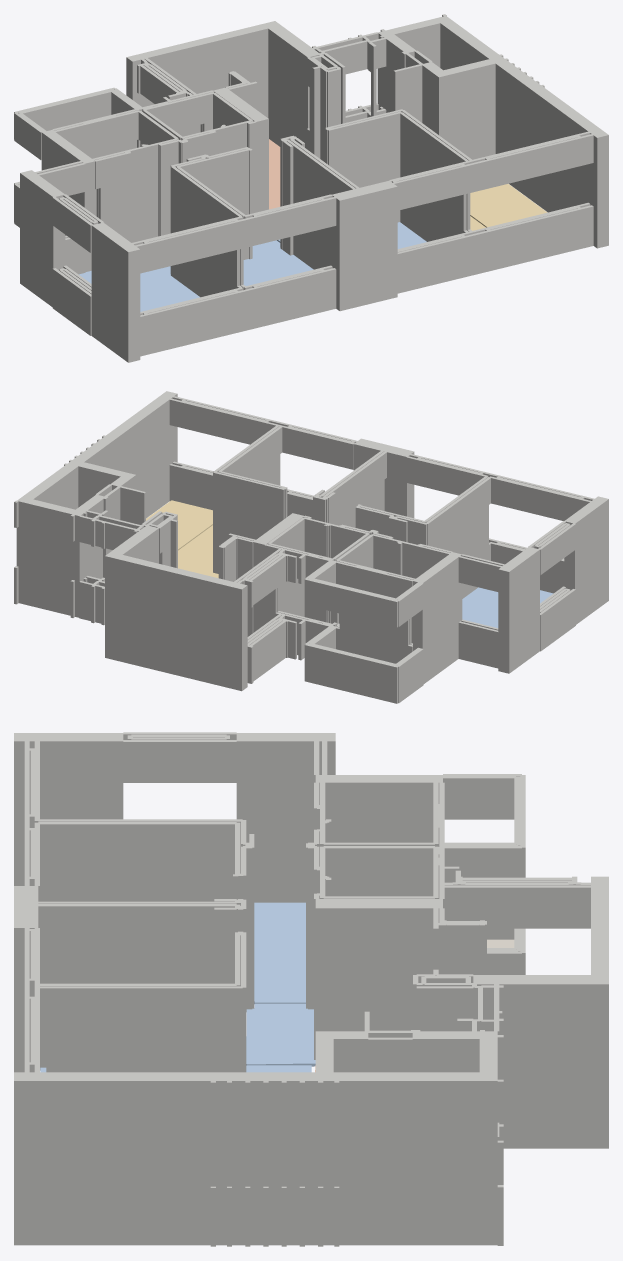
3 views of the same model, one above another, from view 1: azimuth 30°, elevation 25°; view 2: azimuth 150°, elevation 25°; view 3: azimuth 270°, elevation 25° (orthographic). The views are drawn at different scales.
Parts seen in each view (by area): view 1: walls, room:living:7, room:bedroom:4, room:bedroom:9, room:kitchen:1, room:bedroom:5; view 2: walls, room:living:7, room:bedroom:9, room:living:6; view 3: walls, room:bedroom:9, room:bedroom:4.
Boxes of the visible parts, <box> form: walls: <box>14,14,608,362</box>; room:living:7: <box>470,184,547,227</box>; room:bedroom:4: <box>243,240,313,285</box>; room:bedroom:9: <box>79,266,199,311</box>; room:kitchen:1: <box>269,139,280,209</box>; room:bedroom:5: <box>277,222,426,248</box>; walls: <box>14,391,608,703</box>; room:living:7: <box>146,500,212,550</box>; room:bedroom:9: <box>462,587,553,627</box>; room:living:6: <box>178,525,218,578</box>; walls: <box>14,732,608,1246</box>; room:bedroom:9: <box>254,902,305,1003</box>; room:bedroom:4: <box>246,1003,315,1066</box>.
Bounding box in the file's own units: 12.81 × 2.8 × 9.19.
